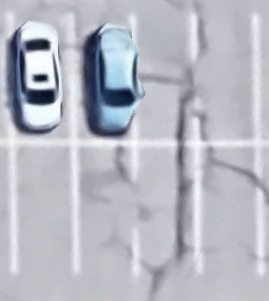Occupied: (74, 11, 135, 142), (13, 11, 73, 142)
Vacant: (194, 11, 259, 144), (135, 142, 200, 273), (197, 144, 261, 275), (13, 142, 76, 272), (135, 11, 197, 143), (76, 143, 136, 273)
